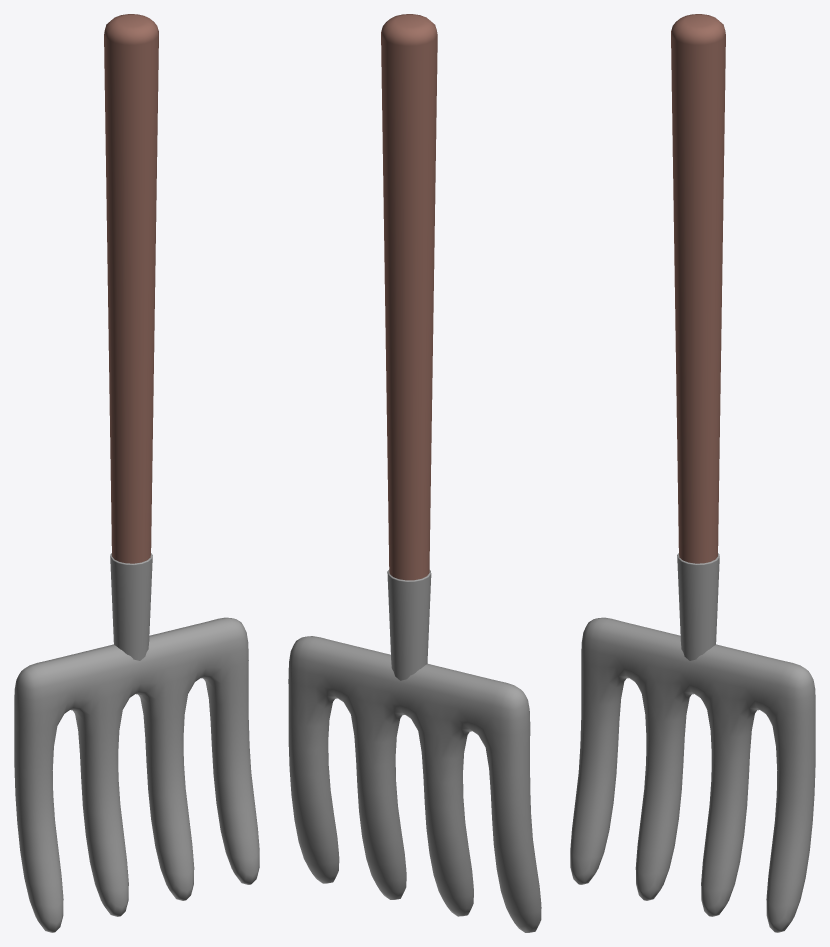
File: Farm_16_Pitchfork_1.glb
3 views of the same model, side by side, from view 1: azimuth 30°, elevation 25°; view 2: azimuth 150°, elevation 25°; view 3: azimuth 330°, elevation 25° (orthographic). The views are drawn at different scales.
Visible parts, largest first — view 1: Farm_16_Pitchfork_1; view 2: Farm_16_Pitchfork_1; view 3: Farm_16_Pitchfork_1.
Part boxes in pixels (x1,y1,x2,y2): Farm_16_Pitchfork_1: [14, 14, 259, 932]; Farm_16_Pitchfork_1: [288, 14, 541, 932]; Farm_16_Pitchfork_1: [570, 14, 815, 932].
Size of the model in its own units: 0.5379 by 1.96 by 0.1516.
Materials: 1 (1 with a texture image).
